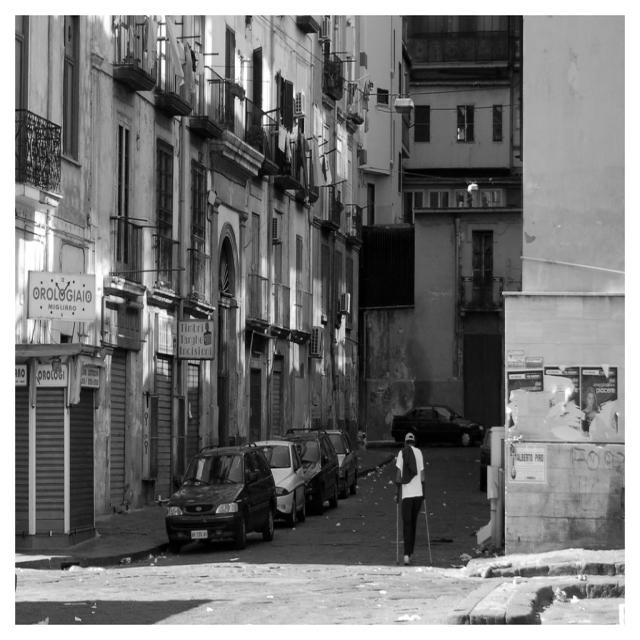car: (157, 444, 282, 556)
